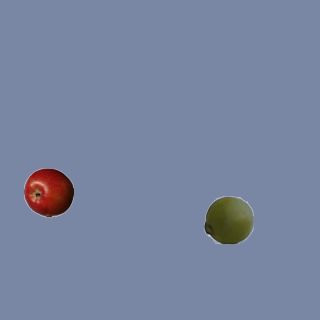Apple Braeburn: (23, 167, 73, 217)
Grape White 4: (203, 194, 253, 244)
